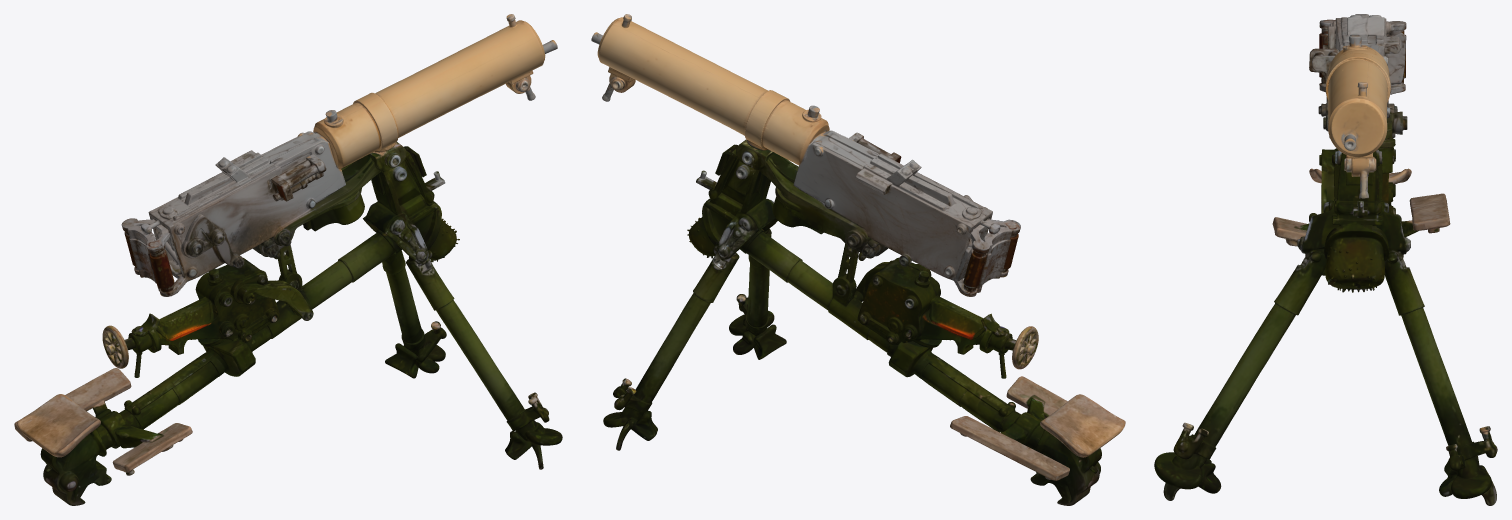
File: 黄筒机关枪.glb
The picture shows the model from 3 angles, left to right: view 1: azimuth 30°, elevation 25°; view 2: azimuth 150°, elevation 25°; view 3: azimuth 270°, elevation 25°; orthographic projection. The views are drawn at different scales.
Parts seen in each view (by area): view 1: texture_pbr_v128; view 2: texture_pbr_v128; view 3: texture_pbr_v128.
Part boxes in pixels (x1=…): texture_pbr_v128: x1=14, y1=14, x2=562, y2=505; texture_pbr_v128: x1=591, y1=14, x2=1125, y2=505; texture_pbr_v128: x1=1154, y1=14, x2=1497, y2=505.
Bounding box in the file's own units: 1.04 × 0.7376 × 0.5098.
Materials: 1 (1 with a texture image).
